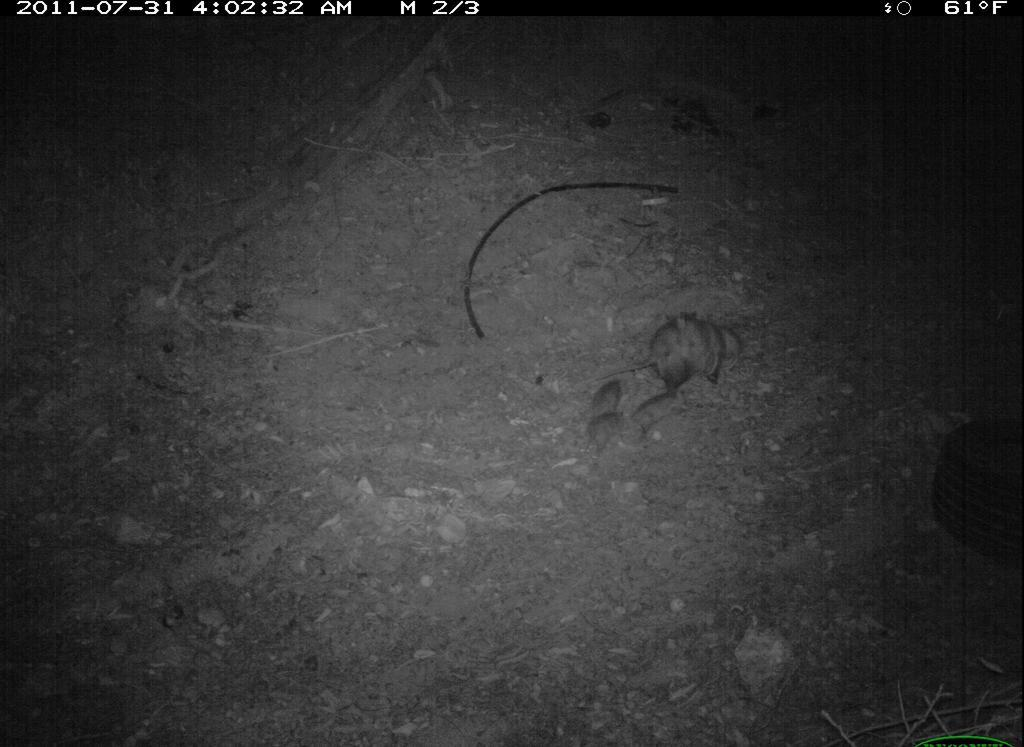opossum: (602, 305, 753, 404)
